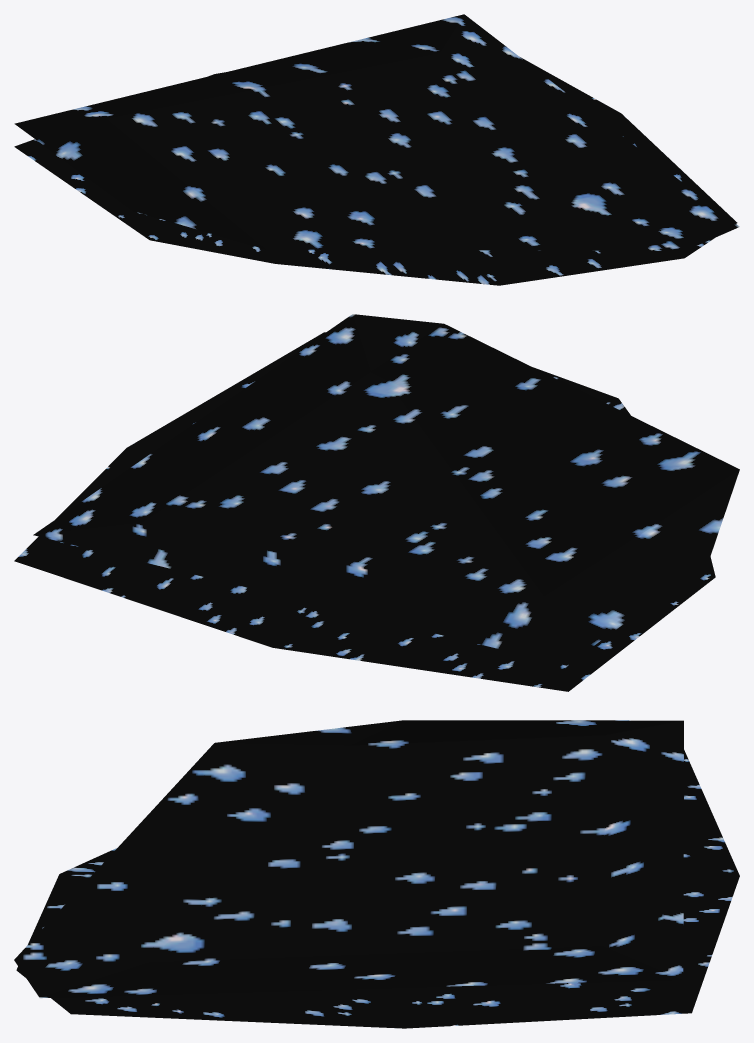
3 views of the same model, one above another, from view 1: azimuth 30°, elevation 25°; view 2: azimuth 150°, elevation 25°; view 3: azimuth 270°, elevation 25° (orthographic). The views are drawn at different scales.
Parts seen in each view (by area): view 1: 26804; view 2: 26804; view 3: 26804.
Part boxes in pixels (<box>): 26804: <box>14,14,739,285</box>; 26804: <box>14,314,739,691</box>; 26804: <box>14,720,739,1028</box>.
Size of the model in its own units: 1.63 by 0.2014 by 1.77.
1 material, 1 textured.
